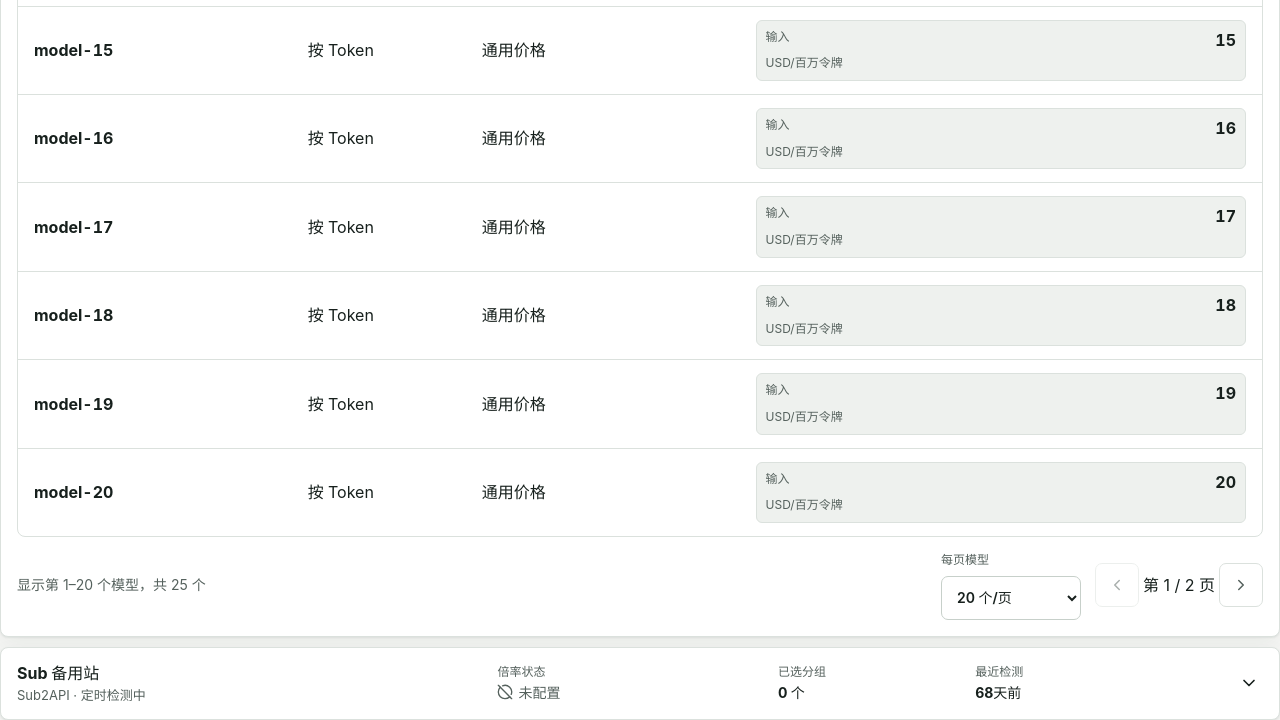
it: 倍率折叠总览 › 价格模型很多时先搜索再分页，手机不会一次渲染全部模型
(page scrolled)
Expected: the text "model-20" is shown, [34,482,113,502]
Expected: the text "model-21" is not shown
Click the button named "下一页模型": (1241, 585) [1219,563,1263,607]
(page scrolled)
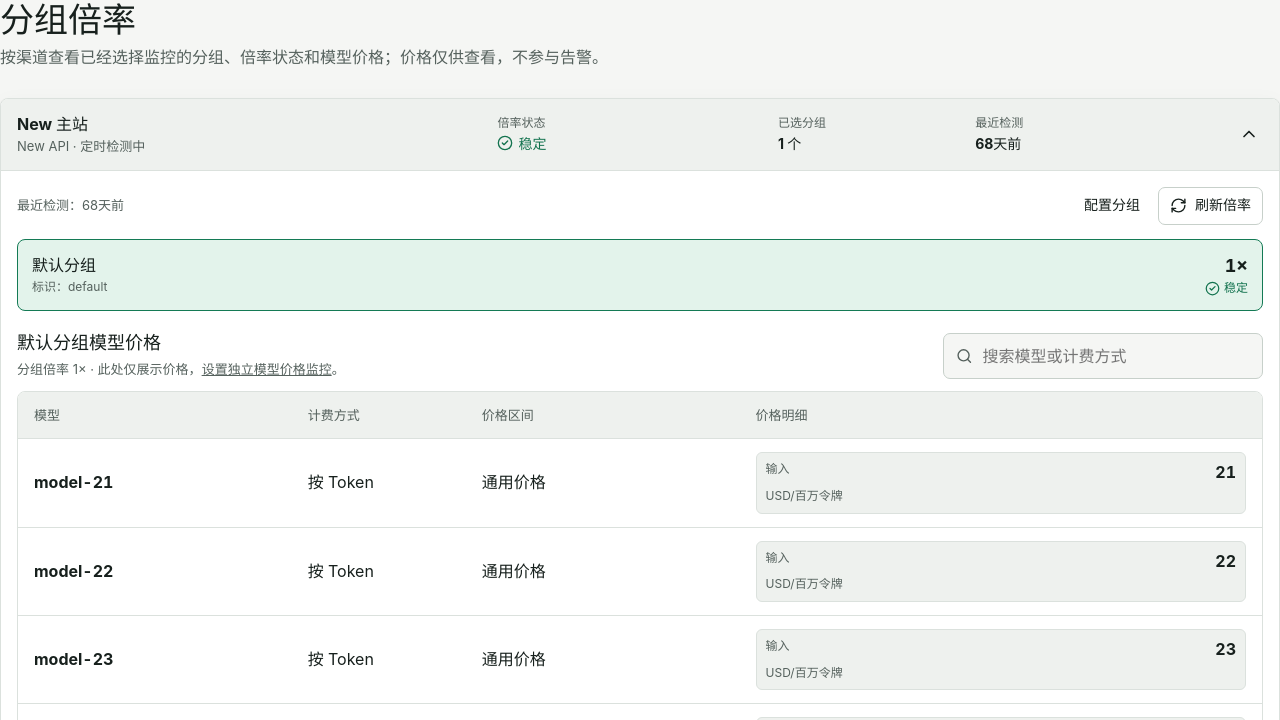
Now the text "model-21" is shown, box [34,472,113,492]
In the search field labelled "搜索模型或计费方式": (1121, 356) [980,334,1262,378], type "model-24"
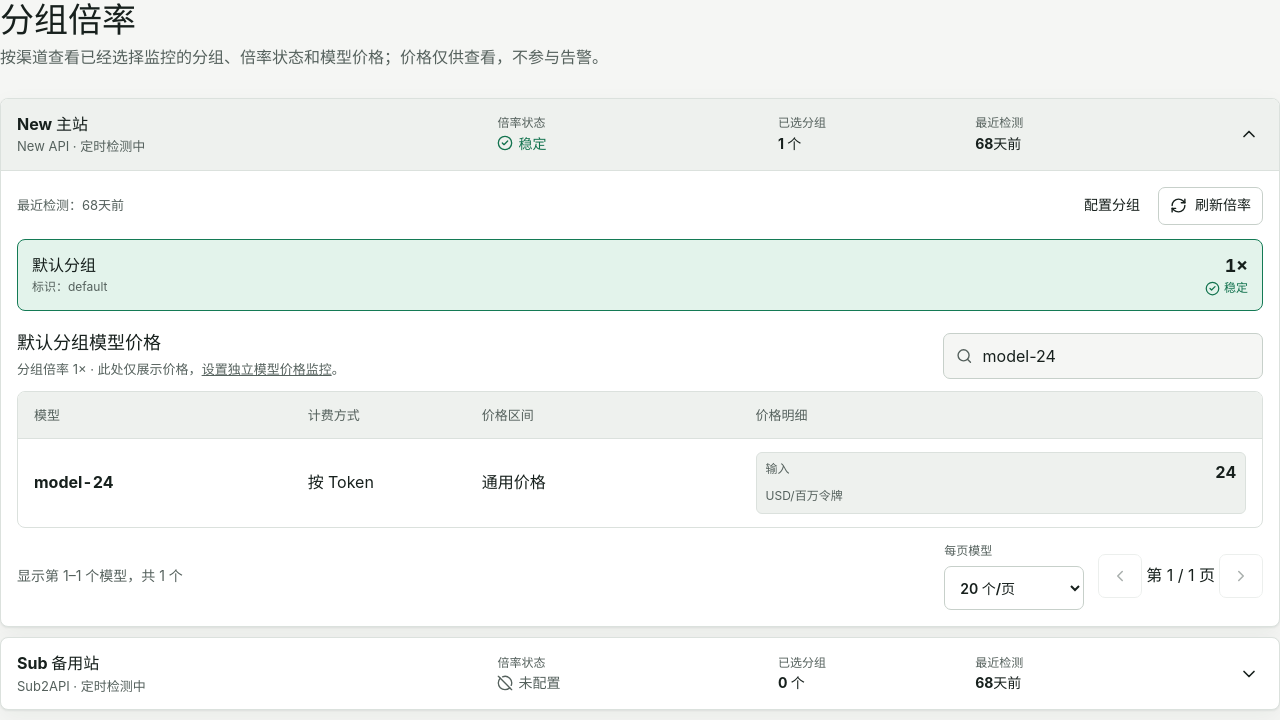
Now the text "显示第 1–1 个模型，共 1 个" is shown, box [17,567,183,584]
Now the text "model-24" is shown, box [34,472,113,492]
